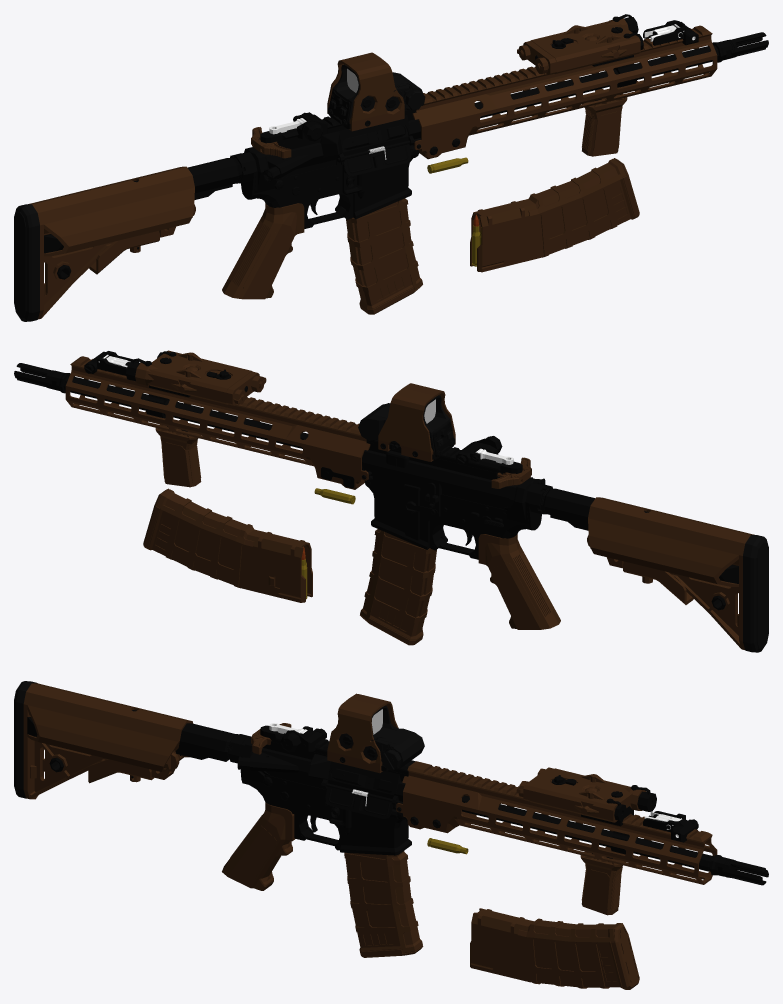
File: sopmod block 3.obj
The picture shows the model from 3 angles, top to bottom: view 1: azimuth 30°, elevation 25°; view 2: azimuth 150°, elevation 25°; view 3: azimuth 330°, elevation 25°; orthographic projection.
Parts seen in each view (by area): view 1: b5_stock, geissele_mk12_forend, 55645_m16_mag_30rnd_(magpul), m4a1_lower_receiver, 55645_m16_mag_empty_30rnd_(magpul), eotech_xps2, an/peq-2, stanfart_a2_pistol_grip, m4a1_upper_receiver, bcm_vertigcal_grip, mk12_barrel, m4a1_dust_covet (+5 smaller); view 2: b5_stock, geissele_mk12_forend, 55645_m16_mag_30rnd_(magpul), m4a1_lower_receiver, 55645_m16_mag_empty_30rnd_(magpul), m4a1_upper_receiver, eotech_xps2, an/peq-2, stanfart_a2_pistol_grip, bcm_vertigcal_grip, mk12_barrel, kac_rear_folding_sight_ (+3 smaller); view 3: b5_stock, geissele_mk12_forend, 55645_m16_mag_30rnd_(magpul), m4a1_lower_receiver, 55645_m16_mag_empty_30rnd_(magpul), eotech_xps2, an/peq-2, m4a1_upper_receiver, stanfart_a2_pistol_grip, bcm_vertigcal_grip, mk12_barrel, m4a1_dust_covet (+4 smaller).
Boxes of the visible parts, x1,y1,x2,y2 form: b5_stock: [14, 166, 195, 321]; geissele_mk12_forend: [412, 25, 717, 159]; 55645_m16_mag_30rnd_(magpul): [470, 158, 639, 272]; m4a1_lower_receiver: [134, 145, 419, 228]; 55645_m16_mag_empty_30rnd_(magpul): [346, 198, 422, 314]; eotech_xps2: [327, 52, 425, 131]; an/peq-2: [517, 14, 643, 74]; stanfart_a2_pistol_grip: [222, 203, 304, 299]; m4a1_upper_receiver: [260, 108, 420, 182]; bcm_vertigcal_grip: [582, 94, 627, 156]; mk12_barrel: [474, 46, 712, 118]; m4a1_dust_covet: [337, 138, 420, 175]; b5_stock: [587, 497, 768, 652]; geissele_mk12_forend: [65, 356, 371, 489]; 55645_m16_mag_30rnd_(magpul): [143, 488, 312, 602]; m4a1_lower_receiver: [364, 475, 648, 559]; 55645_m16_mag_empty_30rnd_(magpul): [360, 529, 436, 645]; m4a1_upper_receiver: [362, 439, 545, 510]; eotech_xps2: [358, 383, 455, 461]; an/peq-2: [126, 350, 266, 405]; stanfart_a2_pistol_grip: [478, 534, 560, 629]; bcm_vertigcal_grip: [155, 424, 201, 487]; mk12_barrel: [70, 377, 308, 448]; kac_rear_folding_sight_: [456, 436, 513, 464]; b5_stock: [14, 681, 193, 799]; geissele_mk12_forend: [396, 761, 717, 884]; 55645_m16_mag_30rnd_(magpul): [470, 908, 639, 989]; m4a1_lower_receiver: [132, 710, 411, 855]; 55645_m16_mag_empty_30rnd_(magpul): [344, 851, 423, 957]; eotech_xps2: [327, 693, 424, 773]; an/peq-2: [516, 767, 656, 826]; m4a1_upper_receiver: [237, 725, 415, 807]; stanfart_a2_pistol_grip: [222, 803, 295, 890]; bcm_vertigcal_grip: [580, 851, 626, 915]; mk12_barrel: [462, 795, 714, 871]; m4a1_dust_covet: [321, 783, 402, 818].
Size of the model in its own units: 8.98 by 2.89 by 0.711.
